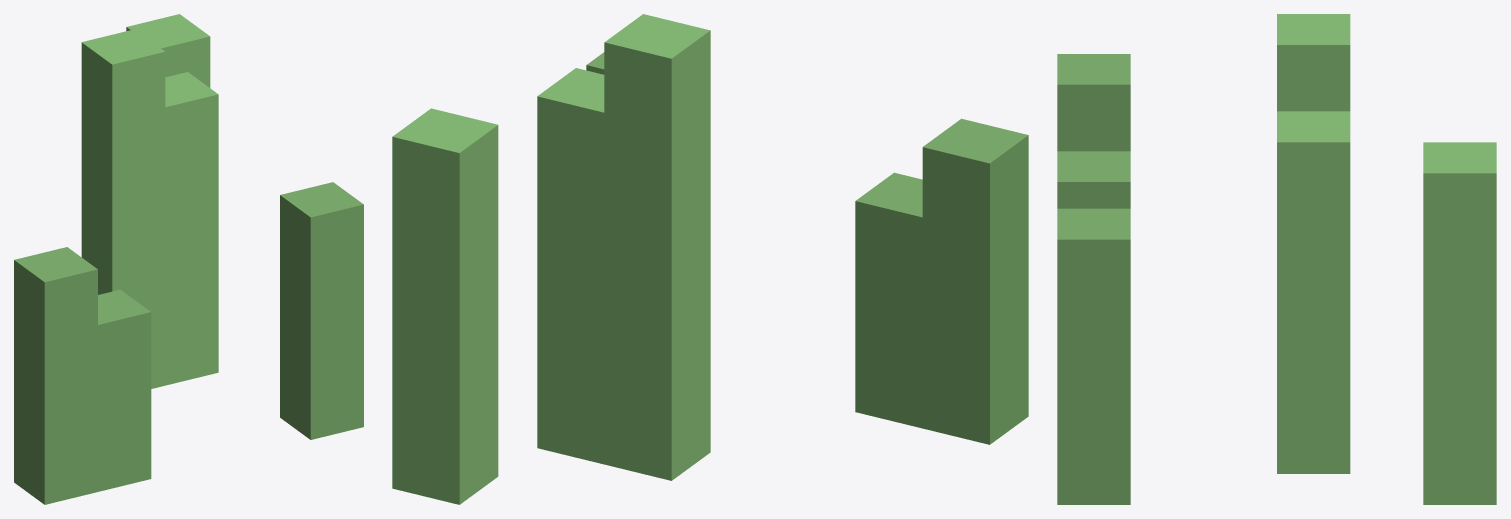
The model's file is trebol_02.glb.
The picture shows the model from 3 angles, left to right: view 1: azimuth 30°, elevation 25°; view 2: azimuth 150°, elevation 25°; view 3: azimuth 270°, elevation 25°; orthographic projection. The views are drawn at different scales.
Visible parts, largest first — view 1: trebol_02; view 2: trebol_02; view 3: trebol_02.
Boxes of the visible parts, <box> form: trebol_02: <box>14,14,363,504</box>; trebol_02: <box>392,14,1028,504</box>; trebol_02: <box>1057,14,1496,504</box>.
Bounding box in the file's own units: 0.6 × 0.6 × 0.6.
